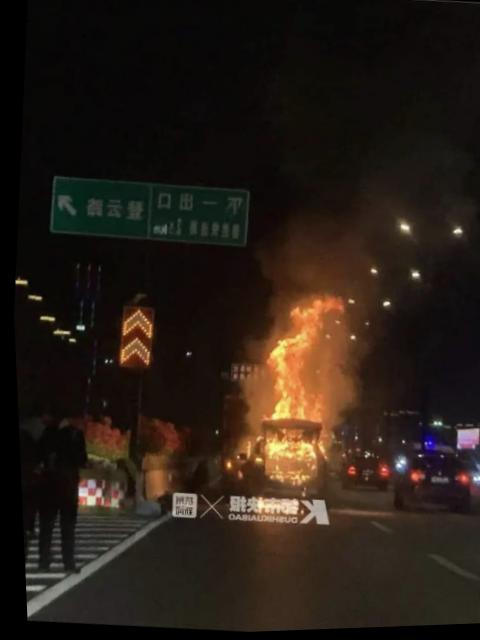fire: (236, 290, 355, 491)
